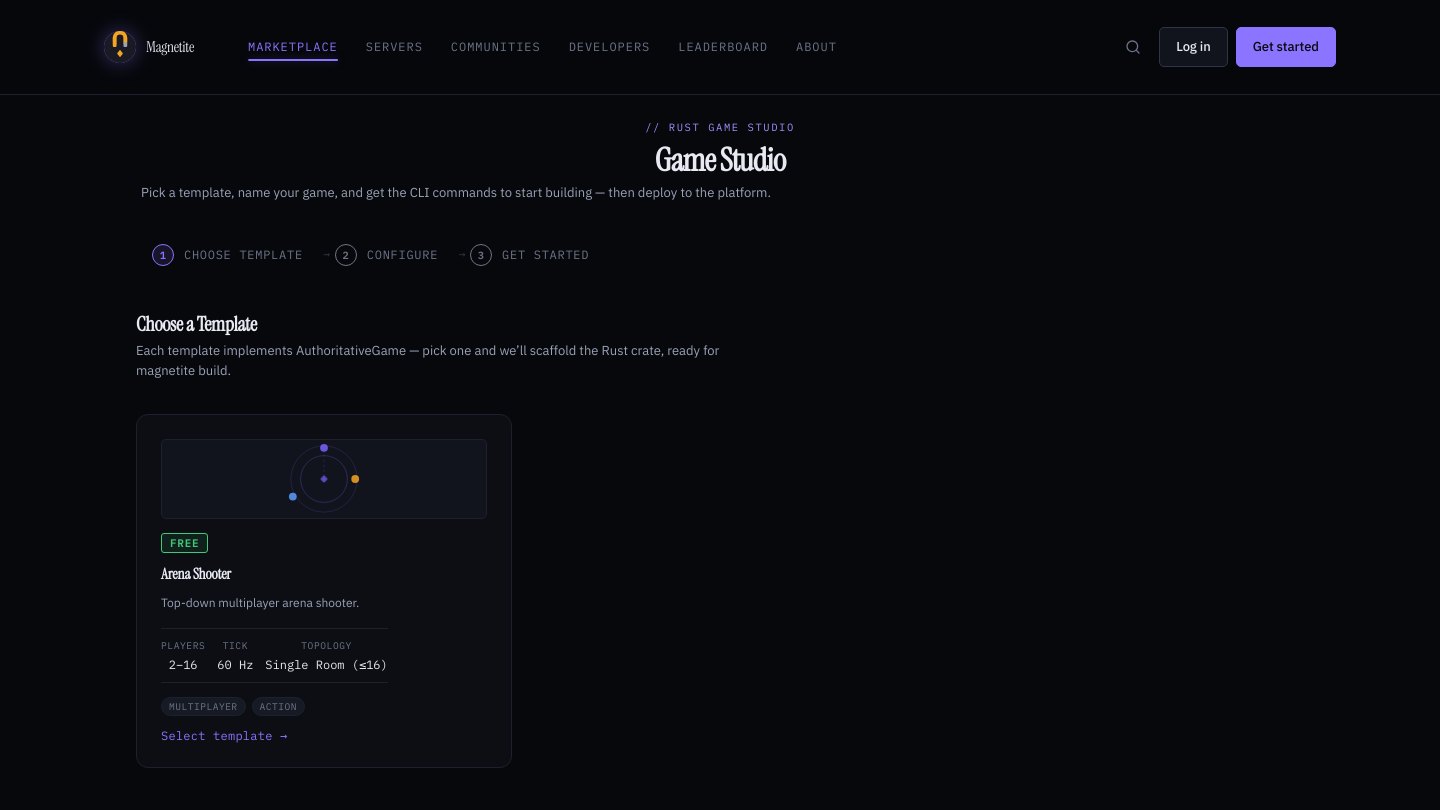
GameStudio — configure step (step 2) › Create Game button is disabled when name is empty
Expected: the heading "Arena Shooter" is shown, [161, 565, 231, 585]
Click the button "Arena Shooter" at [324, 479], box [136, 414, 512, 768]
(page scrolled)
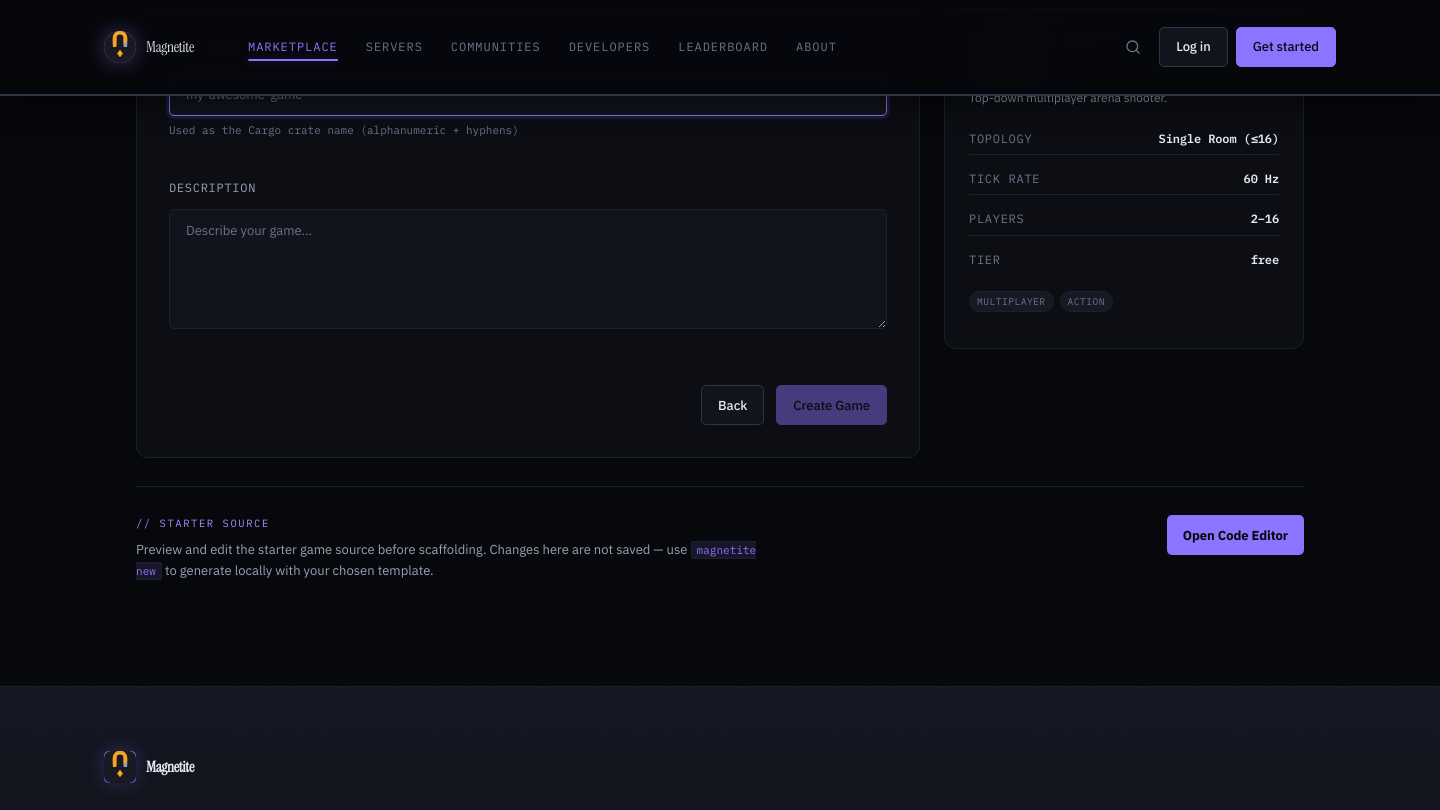
Expected: the button "Create Game" is disabled, [776, 385, 887, 425]
